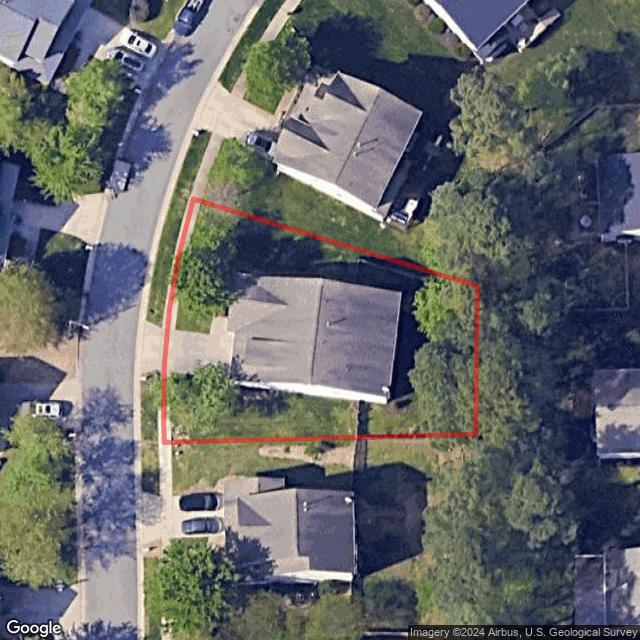Driveway: (162, 329, 233, 376)
Extra-Driveway: (140, 321, 168, 375)
Extra-Lawn: (145, 194, 188, 329), (140, 373, 158, 446)
Extra-Sidewalk: (162, 196, 194, 329), (157, 372, 164, 444)
House: (227, 275, 402, 405)
Lawn: (163, 199, 479, 442)
Other: (285, 259, 430, 414)
Sidewalk: (167, 199, 202, 330), (163, 372, 171, 444), (209, 316, 228, 335)
